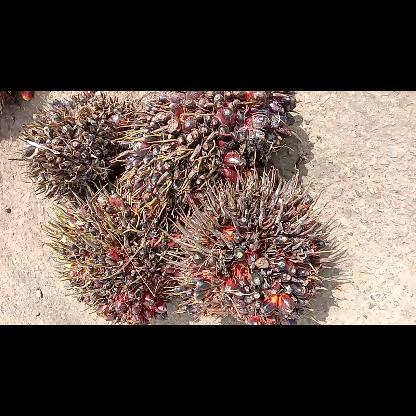TBS abnormal: (181, 185, 332, 320), (55, 168, 185, 324), (131, 91, 300, 183), (27, 92, 134, 192)
